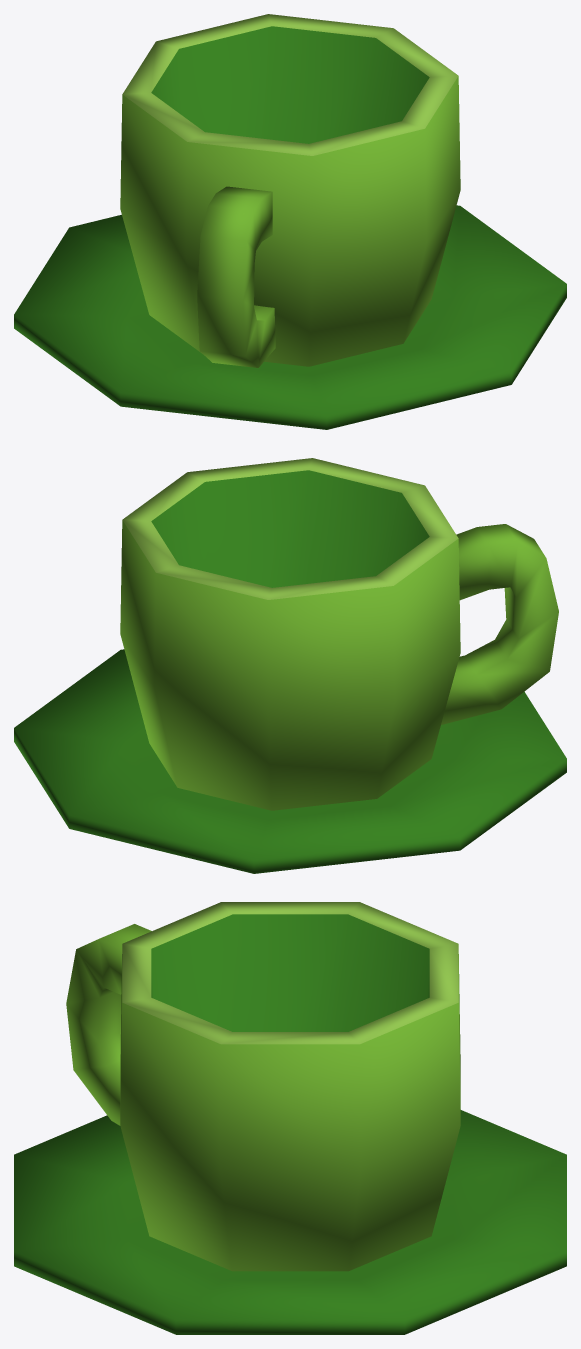
Rendered from CupWithPlate.fbx.
The picture shows the model from 3 angles, top to bottom: view 1: azimuth 30°, elevation 25°; view 2: azimuth 150°, elevation 25°; view 3: azimuth 270°, elevation 25°; orthographic projection. The views are drawn at different scales.
Parts seen in each view (by area): view 1: Cylinder.1265; view 2: Cylinder.1265; view 3: Cylinder.1265.
Part boxes in pixels (x1=…): Cylinder.1265: x1=14, y1=14, x2=566, y2=429; Cylinder.1265: x1=14, y1=458, x2=566, y2=873; Cylinder.1265: x1=14, y1=902, x2=566, y2=1334.
Bounding box in the file's own units: 30.76 × 16.43 × 30.76.
Materials: 1 (1 with a texture image).
